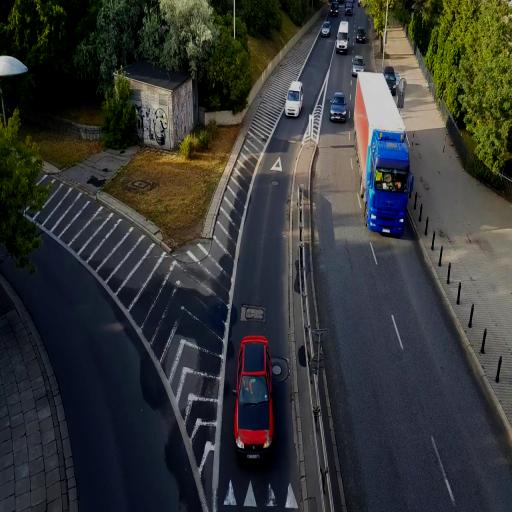vehicle: (352, 70, 410, 236), (234, 334, 274, 466), (364, 128, 411, 238), (284, 82, 304, 116), (329, 92, 347, 123), (336, 20, 349, 55), (272, 356, 288, 380), (384, 67, 398, 92), (351, 56, 364, 76), (321, 22, 331, 36)
